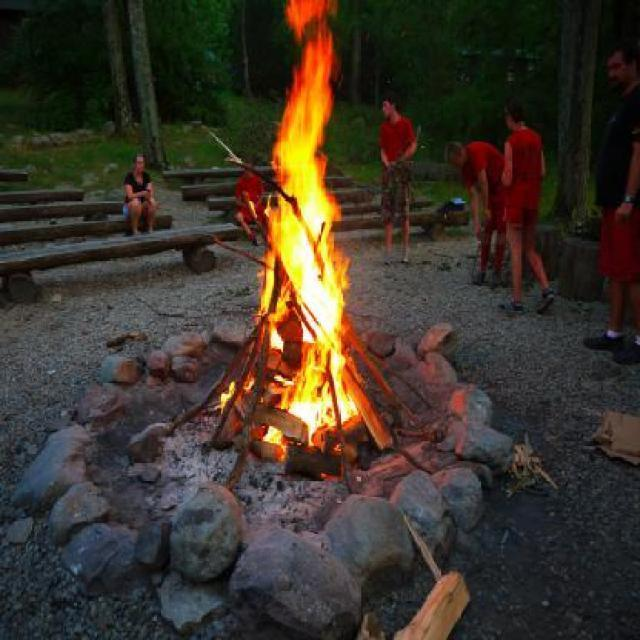Fire: (252, 1, 359, 422)
